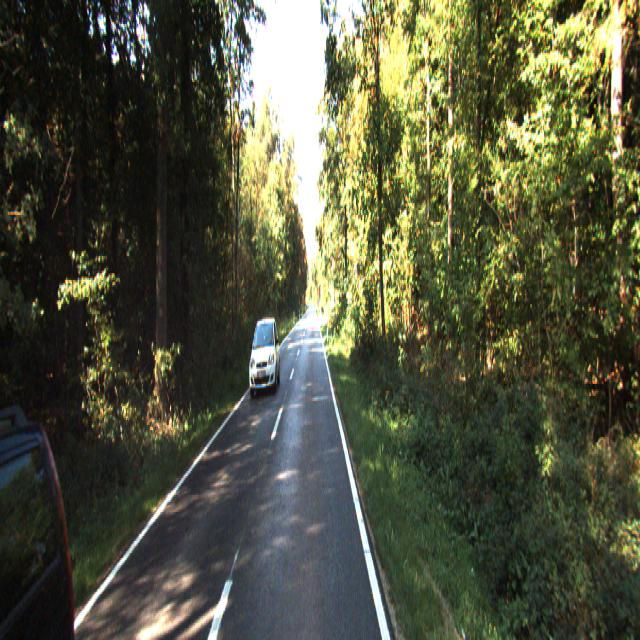Car: (0, 377, 132, 638), (248, 318, 282, 397)
